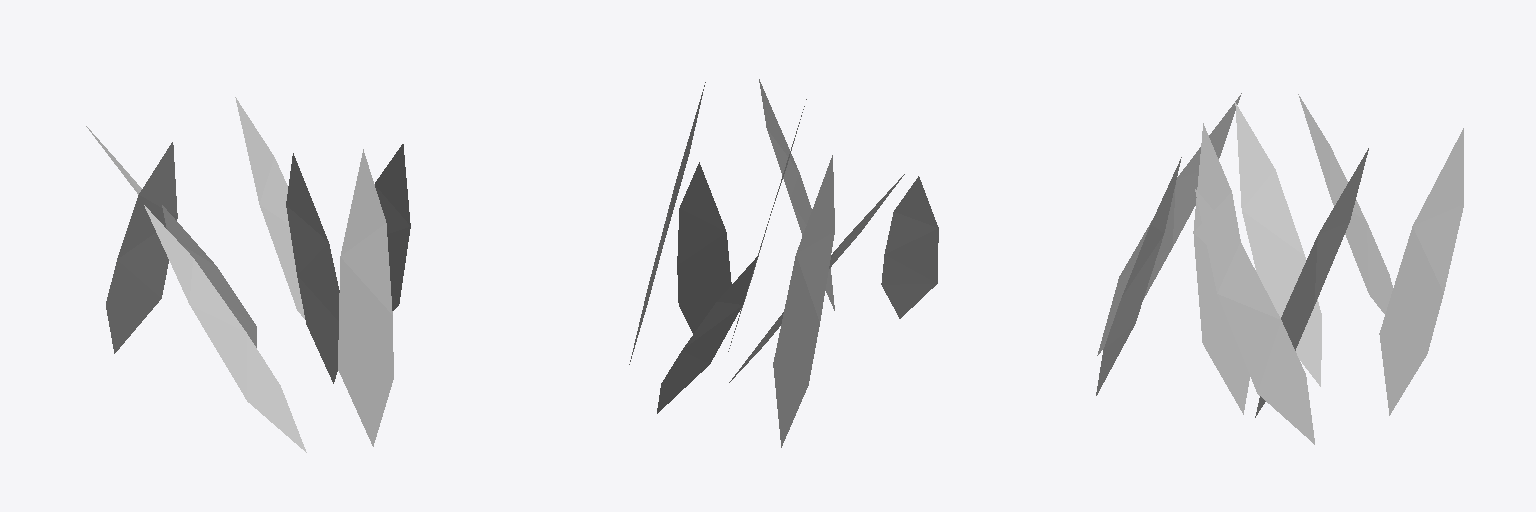
File: grasspatchA-40-tri.obj
3 renders of one model, left to right at view 1: azimuth 30°, elevation 25°; view 2: azimuth 150°, elevation 25°; view 3: azimuth 270°, elevation 25°, orthographic.
Parts seen in each view (by area): view 1: GrassPatchA-LOD2.40-tri.001_GrassPatchA-Mesh-LOD1-Mesh.006; view 2: GrassPatchA-LOD2.40-tri.001_GrassPatchA-Mesh-LOD1-Mesh.006; view 3: GrassPatchA-LOD2.40-tri.001_GrassPatchA-Mesh-LOD1-Mesh.006.
Part boxes in pixels (x1,y1,x2,y2): GrassPatchA-LOD2.40-tri.001_GrassPatchA-Mesh-LOD1-Mesh.006: (86, 97, 410, 452); GrassPatchA-LOD2.40-tri.001_GrassPatchA-Mesh-LOD1-Mesh.006: (629, 79, 938, 447); GrassPatchA-LOD2.40-tri.001_GrassPatchA-Mesh-LOD1-Mesh.006: (1096, 93, 1463, 444).
Bounding box in the file's own units: 0.6773 × 0.6505 × 0.8206.